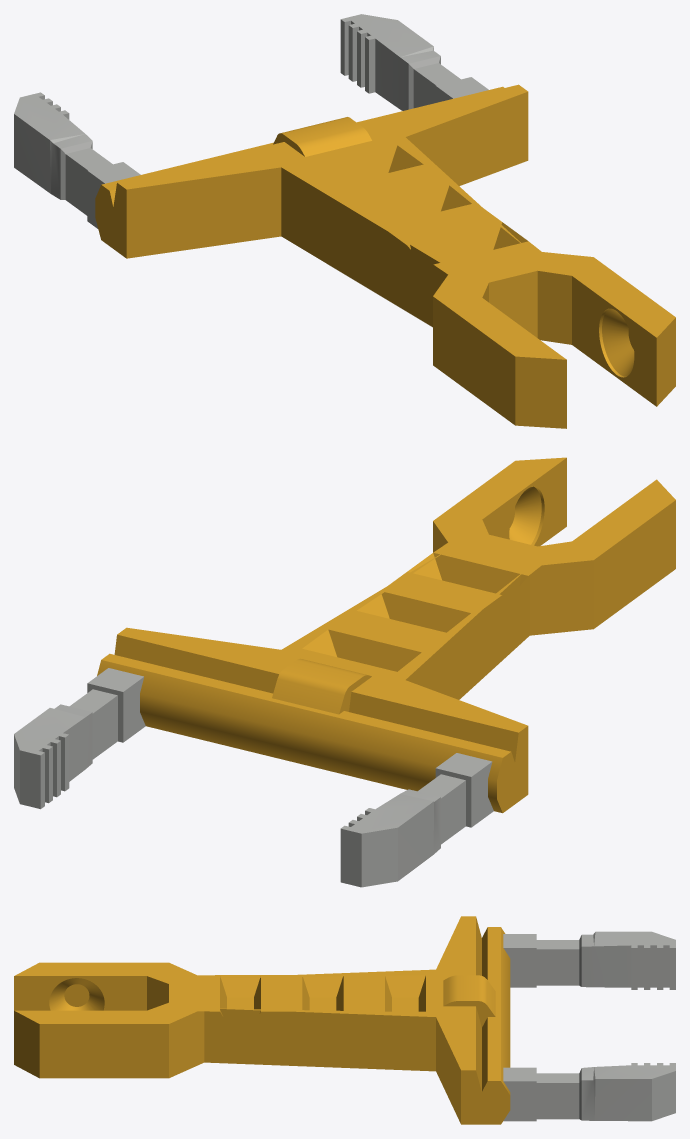
Rendered from inserter-arm-basic-hand-open.glb.
3 renders of one model, top to bottom at view 1: azimuth 30°, elevation 25°; view 2: azimuth 150°, elevation 25°; view 3: azimuth 270°, elevation 25°, orthographic. The views are drawn at different scales.
Visible parts, largest first — view 1: body; view 2: body; view 3: body.
Boxes of the visible parts, x1,y1,x2,y2 form: body: [14, 14, 675, 428]; body: [14, 457, 675, 887]; body: [14, 916, 675, 1124].
Bounding box in the file's own units: 0.5492 × 0.099 × 0.9974.
